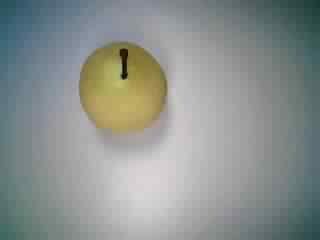pear: (66, 39, 177, 135)
